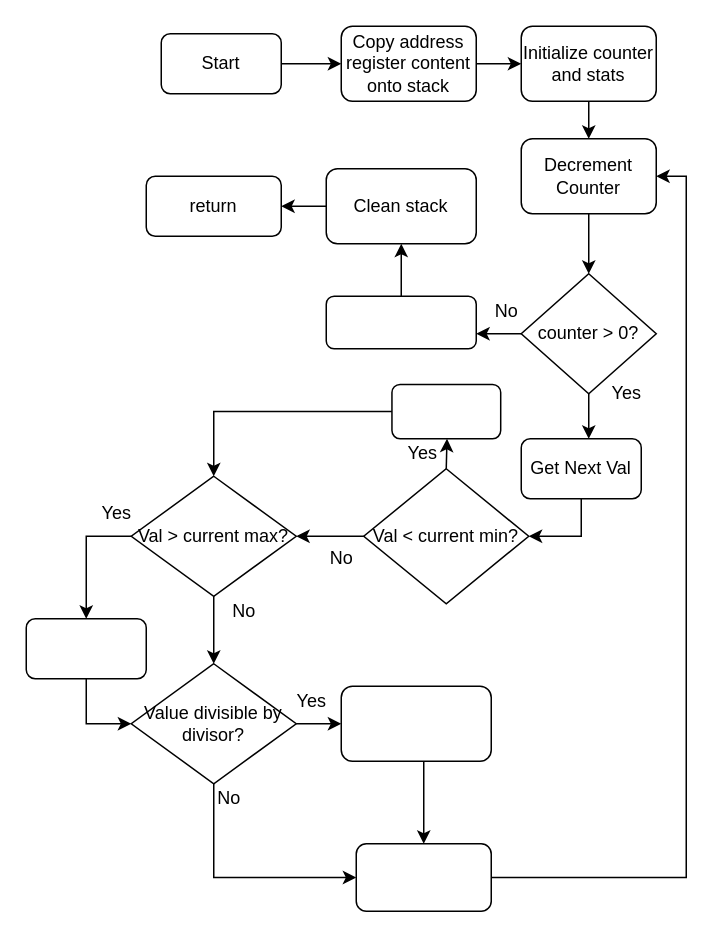
Some shapes in this 725 by 938 pixel diagram are drawn without their labels. Each missing label, with the centre of its shape:
"Add to divisible array" goes at (415,723).
"Add to mean" goes at (423,876).
"Calculate mean" goes at (400,322).
"Save new max" goes at (85,648).
"Save new min" goes at (445,411).
